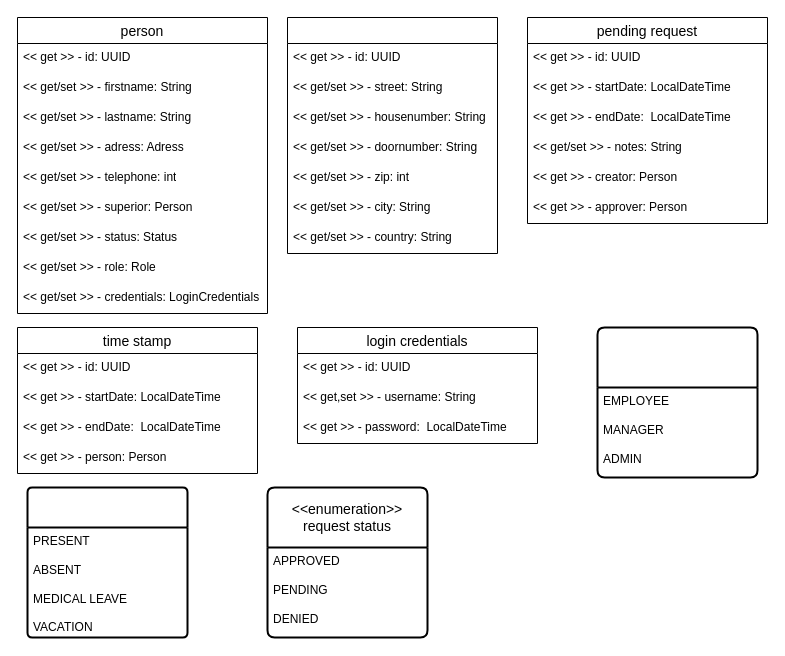
Image size: 785x656. Some labels were removed from this diagram. Here are the shapes that lost their labels. From the top down, the box of each, then its label:
(286, 16, 498, 254): adress
(596, 326, 758, 478): <<enumeration>> role
(26, 486, 188, 638): <<enumeration>> employee status
